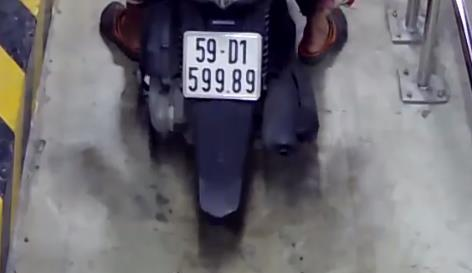lisence: (181, 29, 262, 101)
